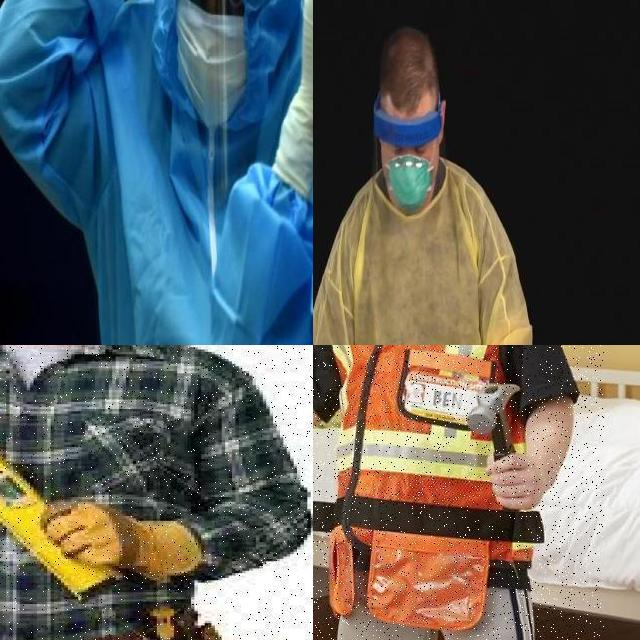GLOVE: (35, 489, 208, 596)
Glove: (273, 0, 313, 104)
MASK: (176, 0, 246, 125), (387, 154, 425, 210)
VEST: (328, 345, 536, 628)
